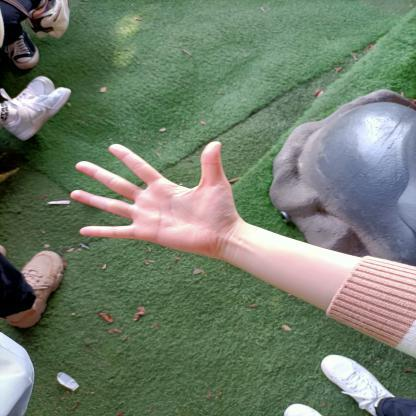bare_hand: (60, 138, 246, 262)
